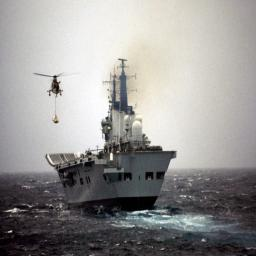Portanaves: (46, 54, 178, 214)
